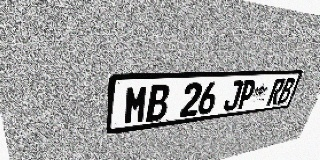2: (180, 82, 203, 117)
6: (197, 81, 220, 115)
B: (146, 84, 171, 122), (277, 78, 296, 104)
J: (222, 80, 244, 112)
M: (123, 85, 149, 125)
P: (236, 80, 257, 110)
R: (266, 78, 286, 106)
